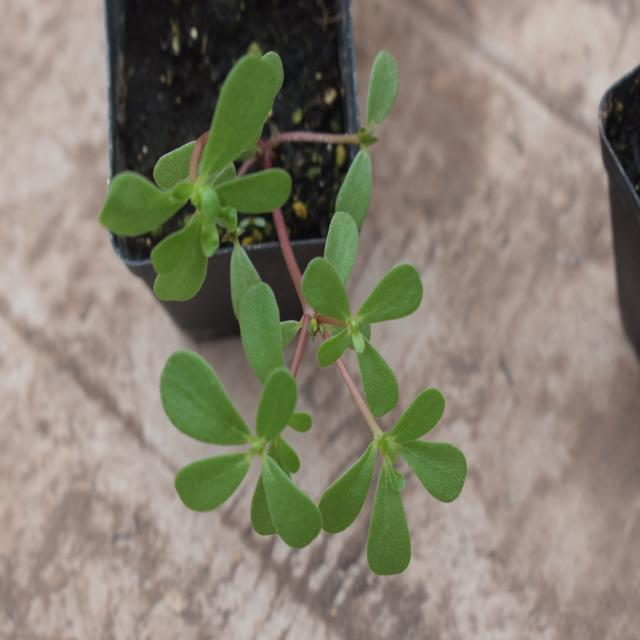purslane: (118, 56, 473, 560)
